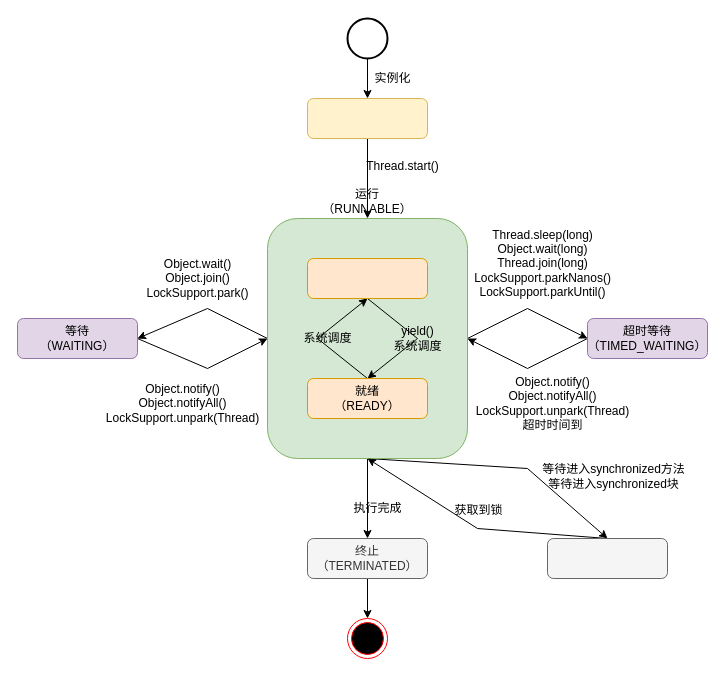
The diagram is 725 pixels wide and 676 high, and some of its shapes have lost their labels. The shapes that lost their labels are listed below. From the top down, each one's centre as x and y in pixels, then its label:
At (367,118): "初始 （NEW）".
At (367,278): "运行中 （RUNNING）".
At (607,558): "阻塞 （BLOCKED）".
